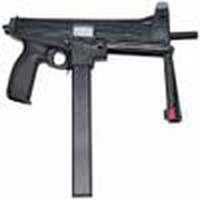gun: (3, 8, 195, 138)
